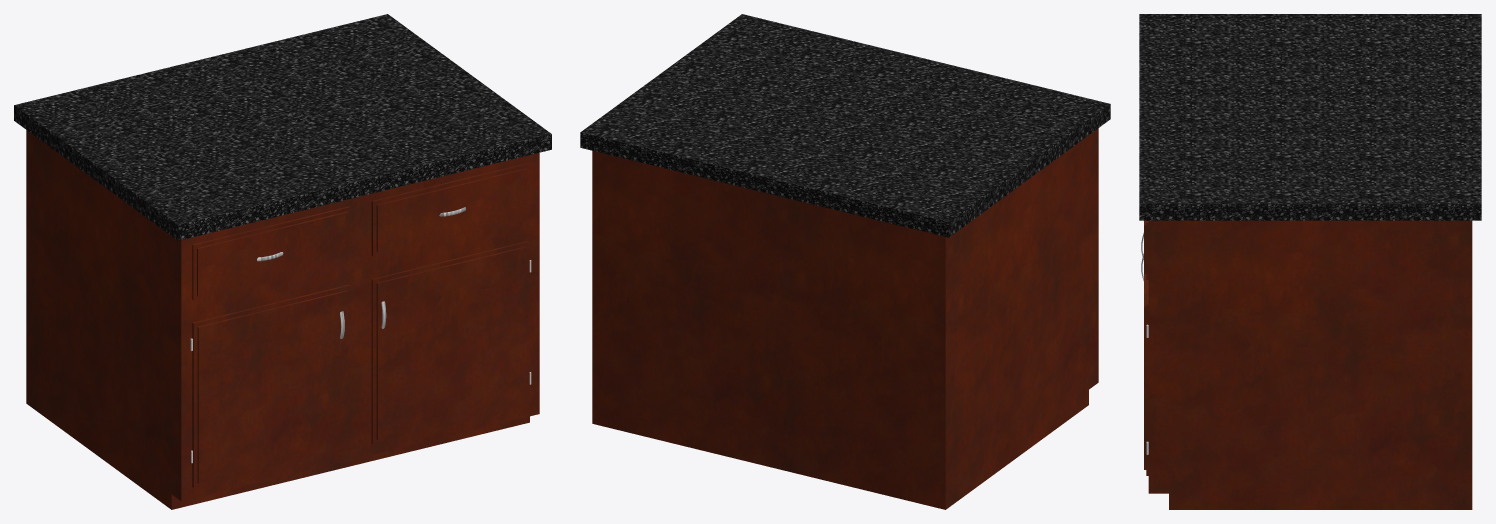
File: counter.min.dae
3 renders of one model, left to right at view 1: azimuth 30°, elevation 25°; view 2: azimuth 150°, elevation 25°; view 3: azimuth 270°, elevation 25°, orthographic. The views are drawn at different scales.
Visible parts, largest first — view 1: Model; view 2: Model; view 3: Model.
Part boxes in pixels (x1,y1,x2,y2): Model: (14, 14, 551, 509); Model: (580, 14, 1110, 509); Model: (1139, 14, 1481, 509).
Bounding box in the file's own units: 50.05 × 38.05 × 38.
4 materials, 3 textured.
